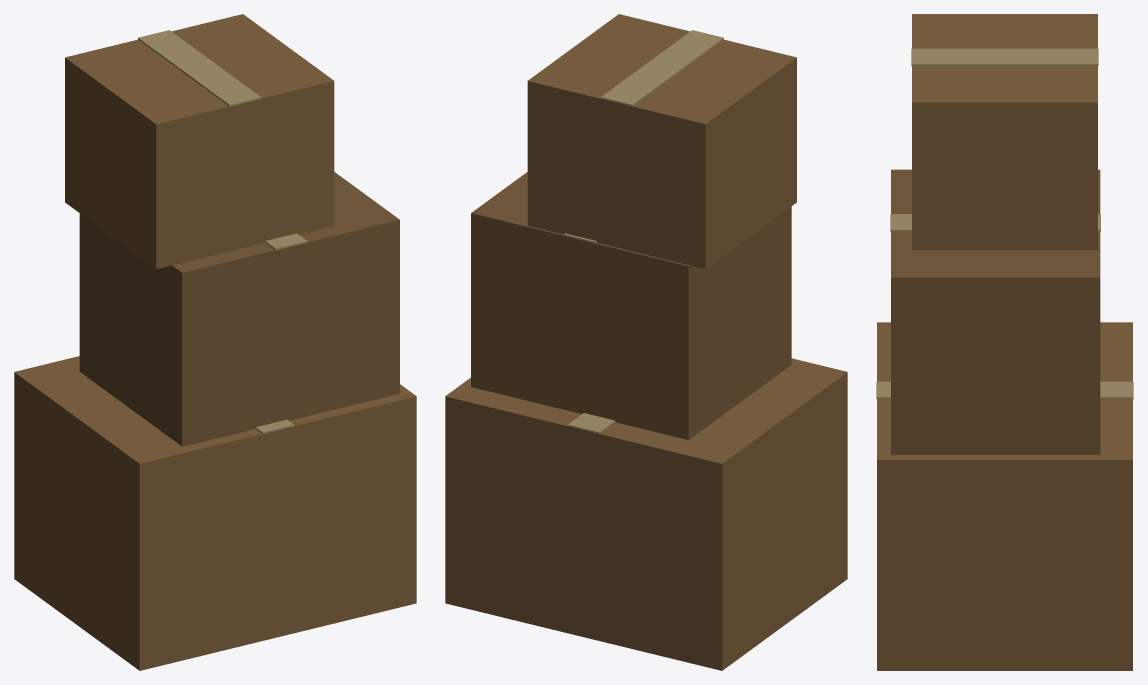
Rendered from boxes_3.glb.
3 views of the same model, side by side, from view 1: azimuth 30°, elevation 25°; view 2: azimuth 150°, elevation 25°; view 3: azimuth 270°, elevation 25° (orthographic).
Visible parts, largest first — view 1: boxes_3; view 2: boxes_3; view 3: boxes_3.
Boxes of the visible parts, x1,y1,x2,y2 form: boxes_3: [14, 14, 416, 670]; boxes_3: [445, 14, 847, 670]; boxes_3: [876, 14, 1133, 670].
Size of the model in its own units: 0.7 by 1.27 by 0.552.
